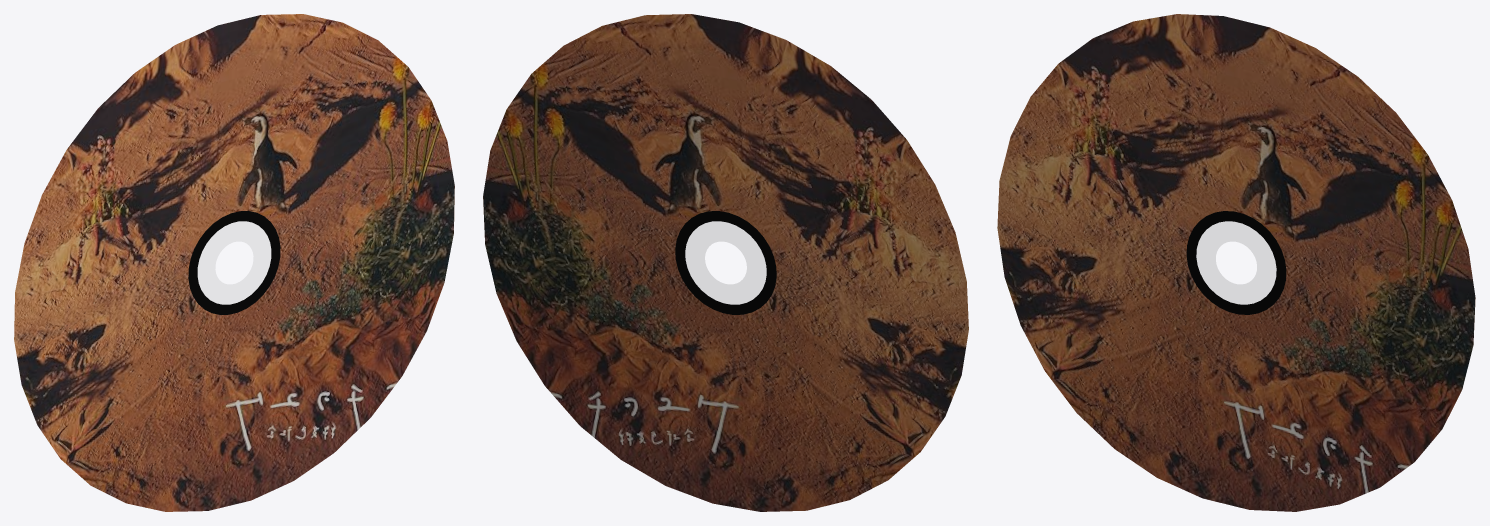
The picture shows the model from 3 angles, left to right: view 1: azimuth 30°, elevation 25°; view 2: azimuth 150°, elevation 25°; view 3: azimuth 330°, elevation 25°; orthographic projection. The views are drawn at different scales.
Visible parts, largest first — view 1: Circle; view 2: Circle; view 3: Circle.
Part boxes in pixels (left/top/right/bottom): Circle: left=14, top=14, right=454, bottom=511; Circle: left=483, top=14, right=968, bottom=511; Circle: left=997, top=14, right=1475, bottom=511.
Size of the model in its own units: 3.21 by 3.22 by 0.2073.
3 materials, 1 textured.
